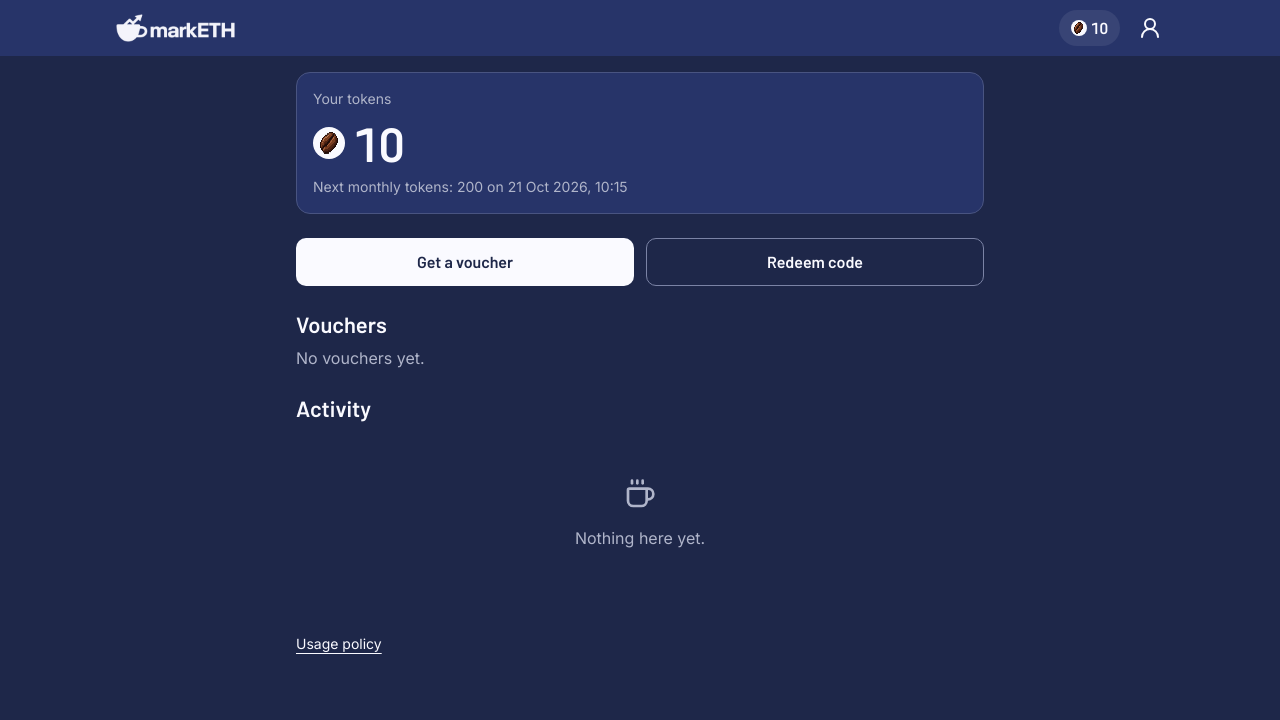
the product list › disables a product by 'affordable' alone, and keeps it in the list
Click the button "Get a voucher" at (465, 262), box [296,238,634,286]
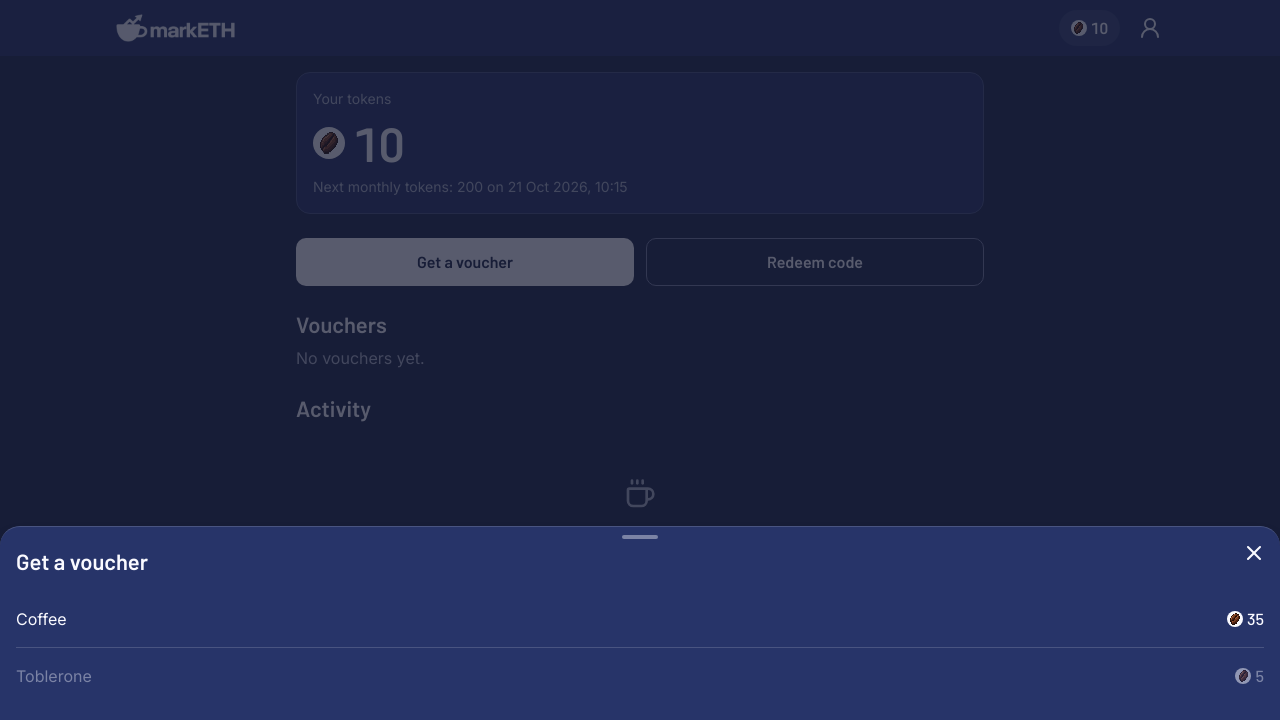
Check: the button "Coffee 35" is enabled, box [16,591,1264,647]
Check: the button "Toblerone 5" is disabled, box [16,648,1264,704]
